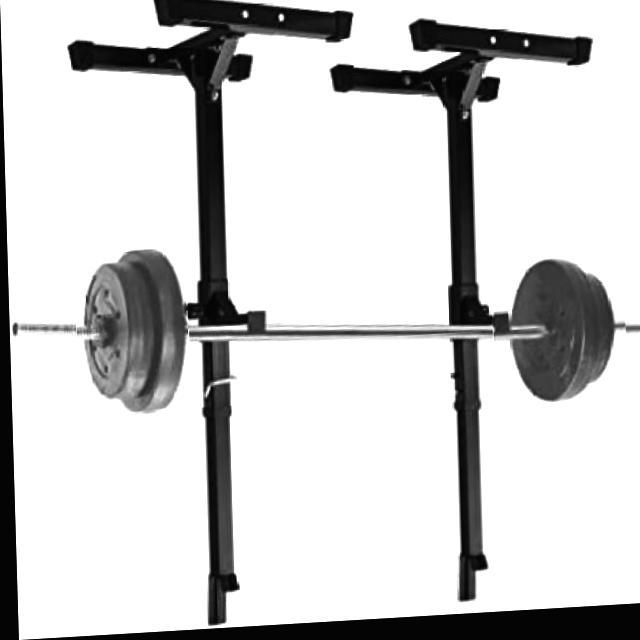barbell: (489, 253, 628, 440), (71, 238, 191, 435)
